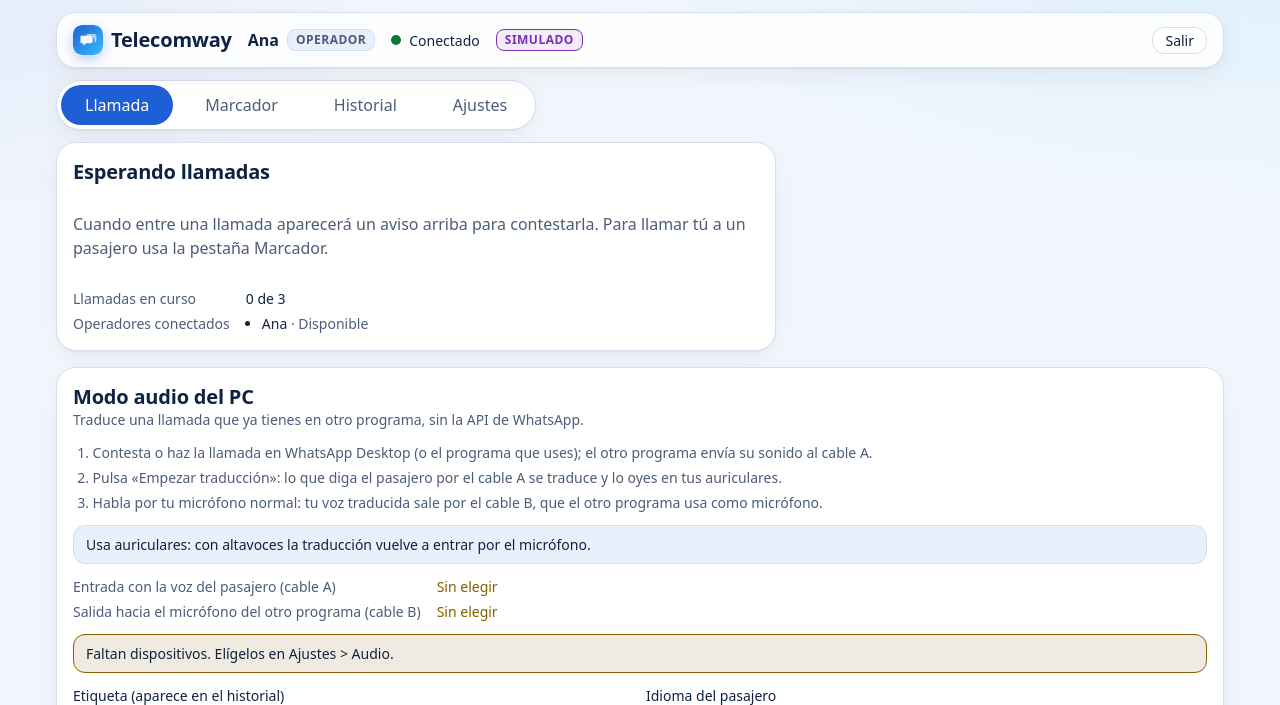
Test case: shell navigation › starts on the idle Llamada tab, switches tabs and jumps back to Llamada when a call starts
Later steps or results of the test are not shown.
Check: the element with test id "idle-panel" shows "Esperando llamadas", box [73, 158, 270, 185]
Check: the element with test id "presence" shows "0 de 3", box [73, 289, 368, 333]
Click the tab "Marcador". click: (242, 105)
box: [181, 85, 302, 125]
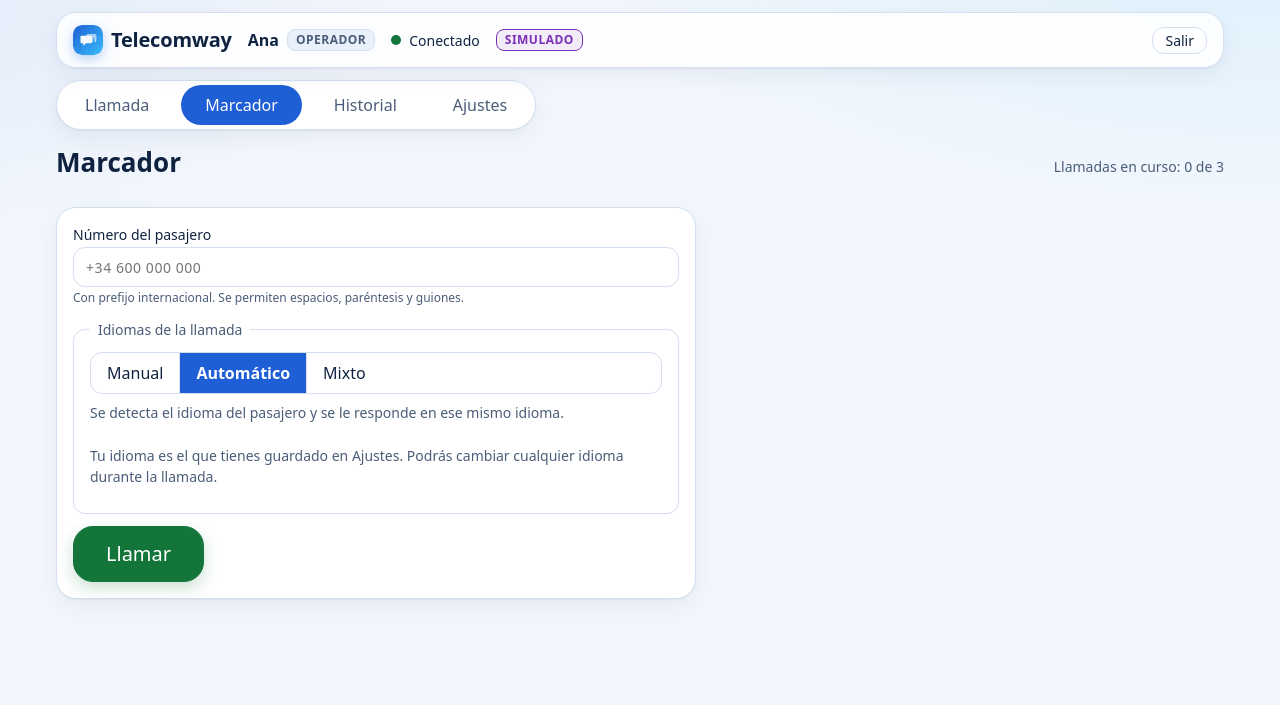
Check: the element with test id "dialer" is shown, box [56, 142, 1224, 599]
Click the tab "Historial". click: (365, 105)
box: [310, 85, 421, 125]
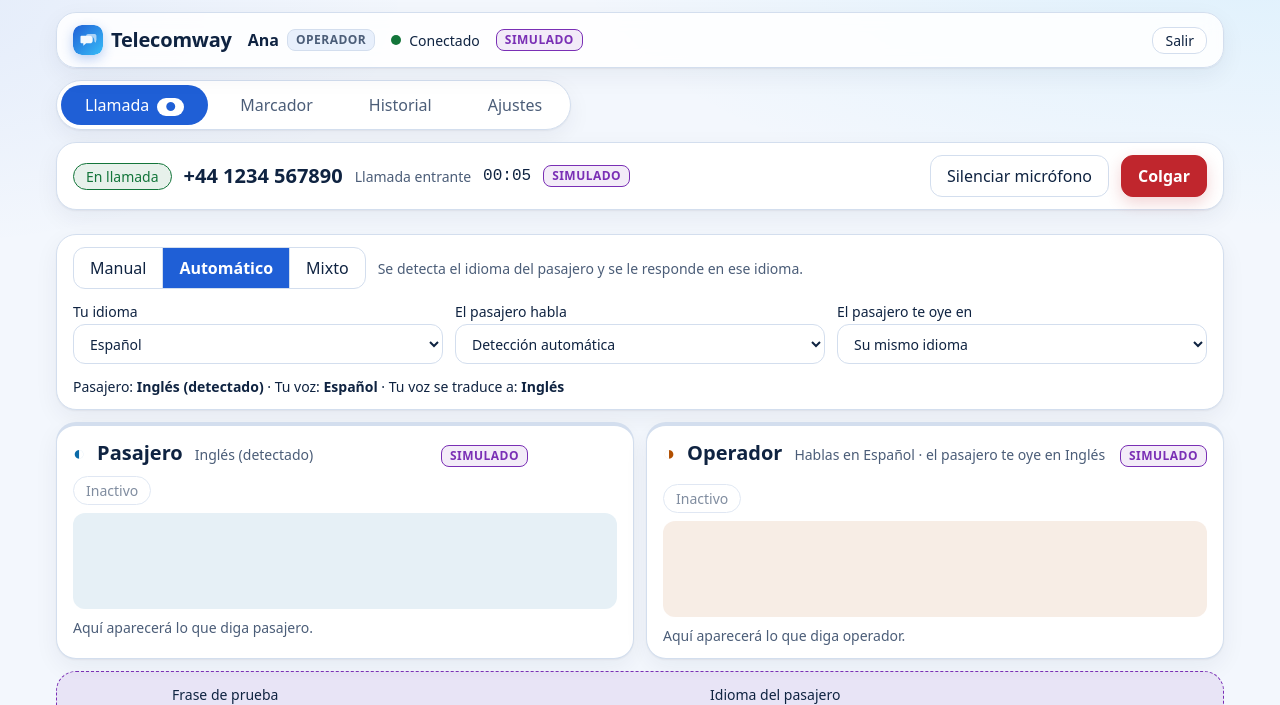
Check: the tab "Llamada ●" is selected, box [61, 85, 208, 125]
// Leaving the tab during the same call does not drag the operator back.
Click the tab "Ajustes". click: (515, 105)
box: [464, 85, 566, 125]
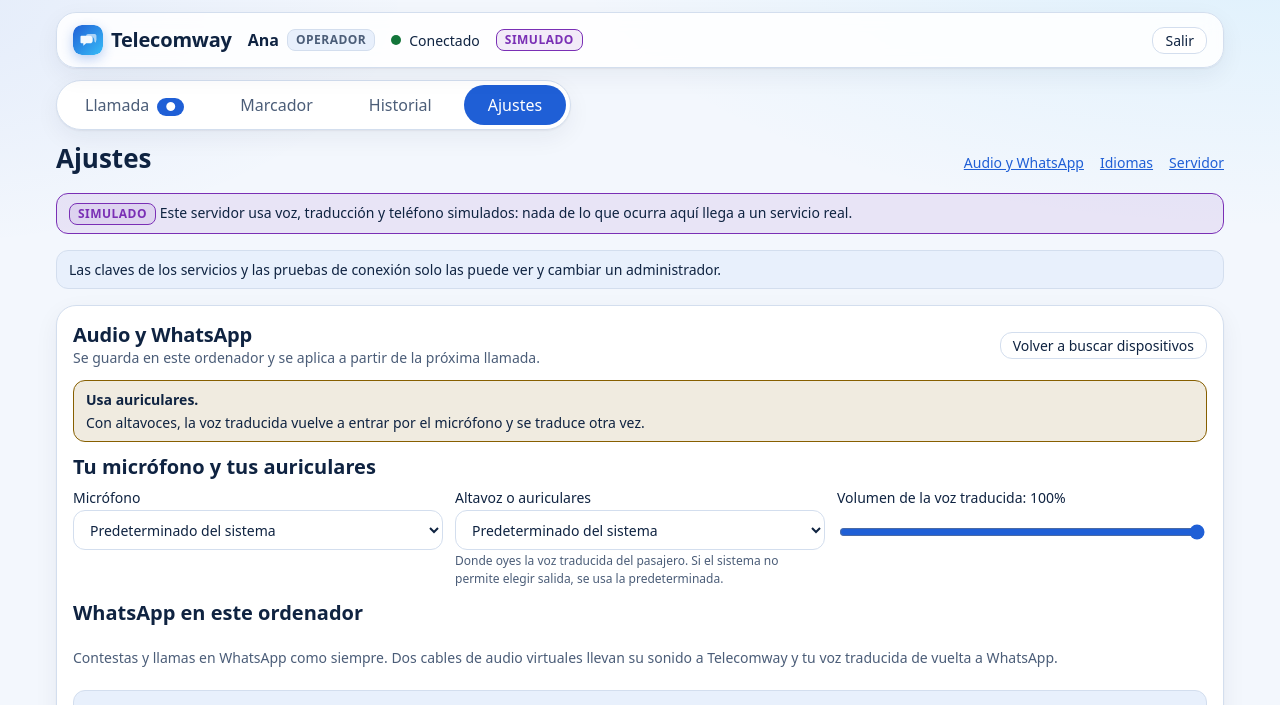
Check: the tab "Ajustes" is selected, box [464, 85, 566, 125]
